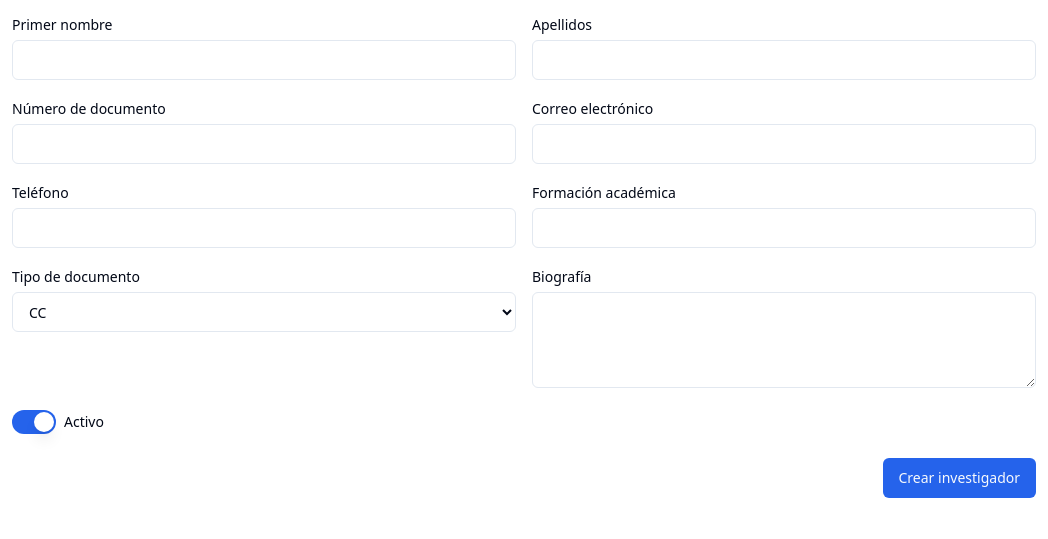
it: ResearcherForm › maps a 400 duplicate-document field error into the form
Type "Ana" into the field labelled "Primer nombre".
click(264, 60); type("Ana")  # box 12,40 -> 516,80
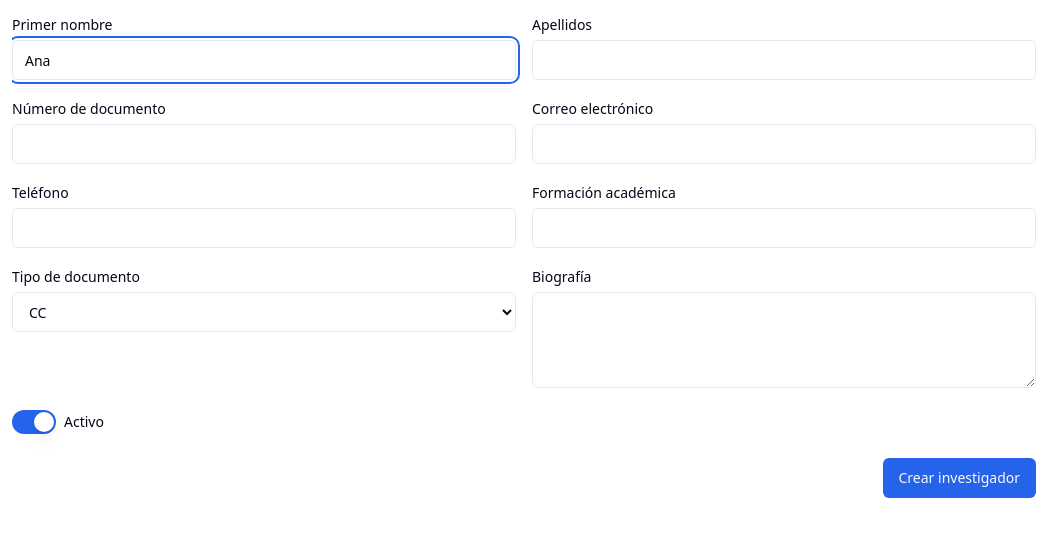
Type "Pérez" into the field labelled "Apellidos".
click(784, 60); type("Pérez")  # box 532,40 -> 1036,80
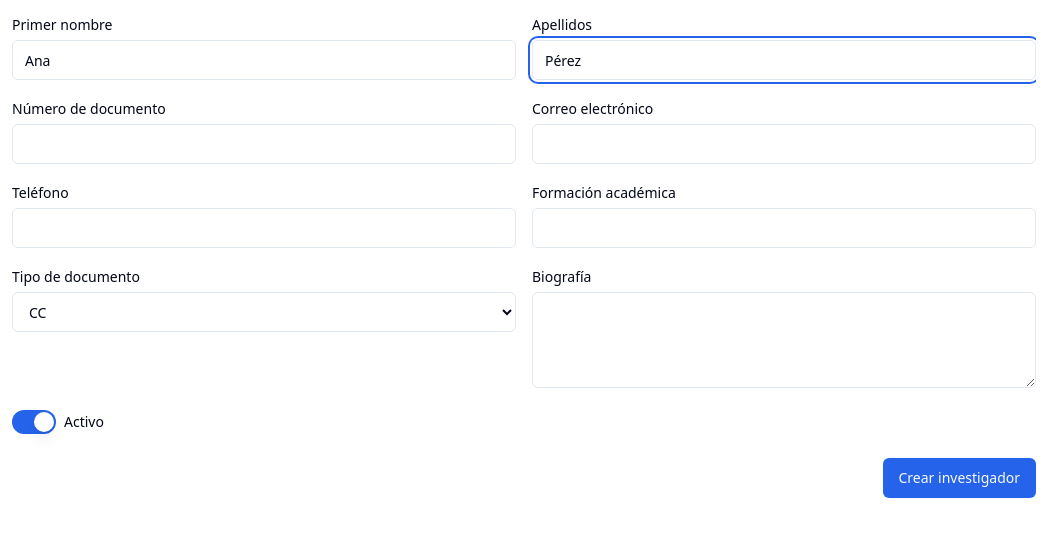
Select "CC" in the dropdown labelled "Tipo de documento" at (264,312), box 12,292 -> 516,332
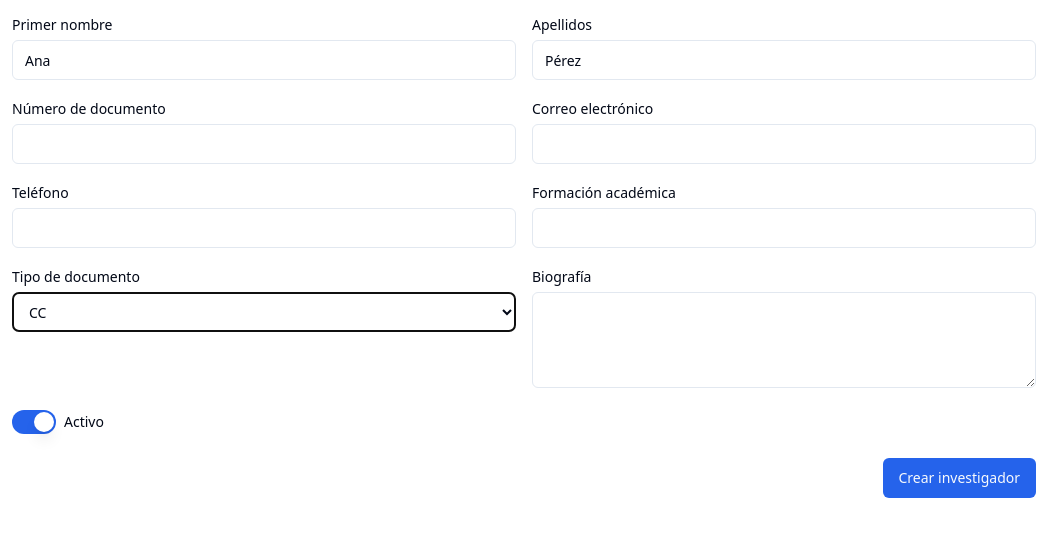
Type "1234567890" into the field labelled "Número de documento".
click(264, 144); type("1234567890")  # box 12,124 -> 516,164
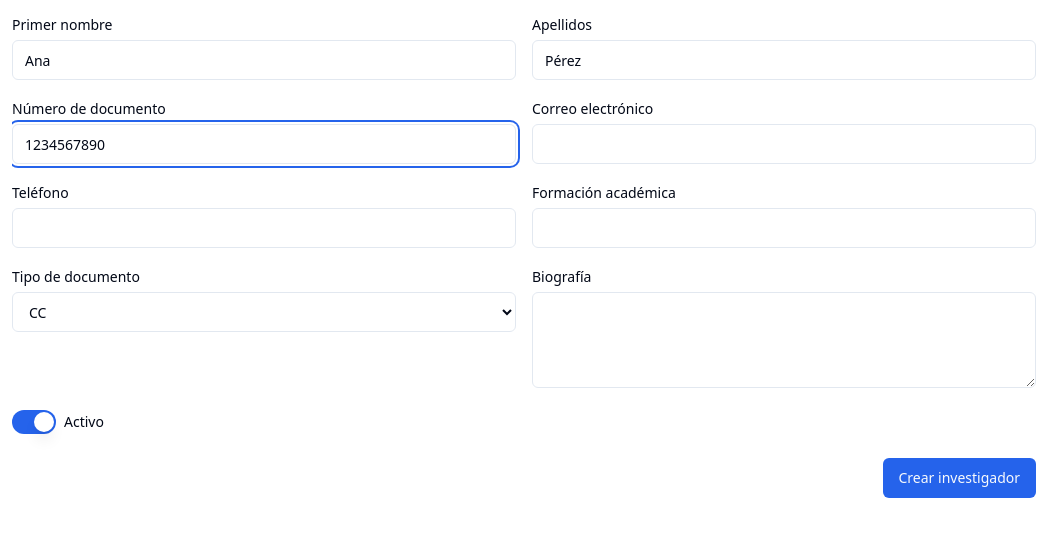
Type "ana@example.com" into the field labelled "Correo electrónico".
click(784, 144); type("ana@example.com")  # box 532,124 -> 1036,164
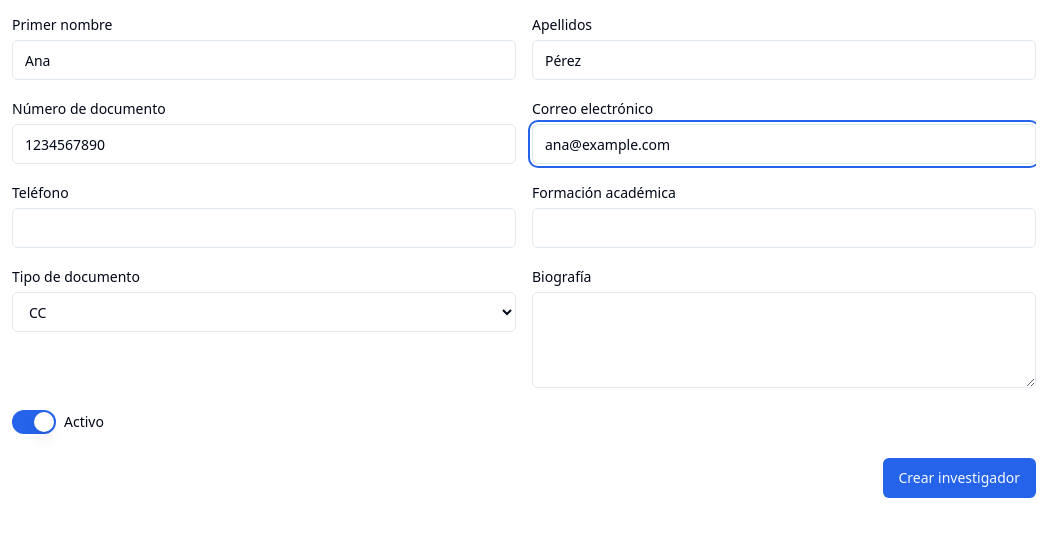
Click the button "Crear investigador".
click(959, 478)  # box 882,458 -> 1036,498
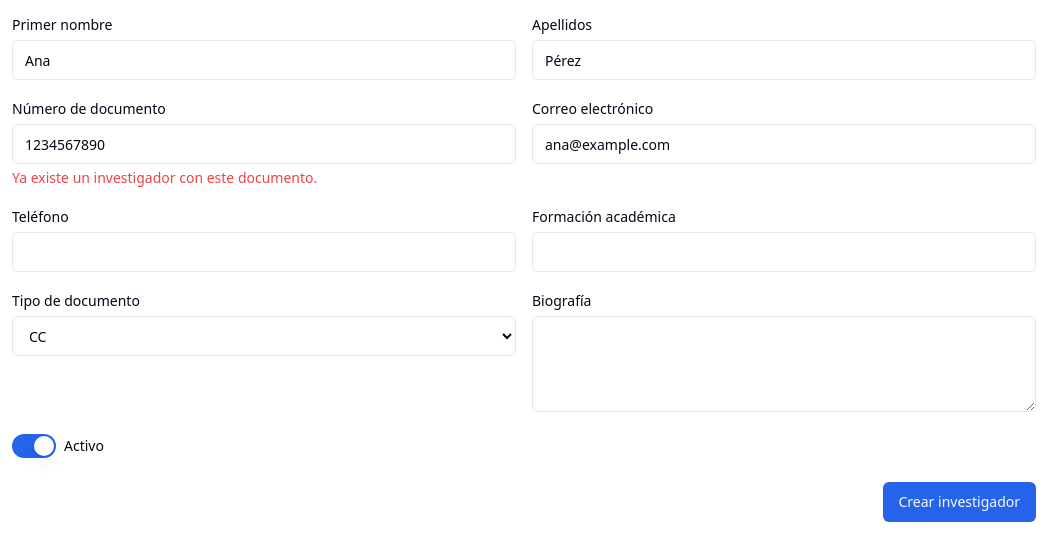
Expected: the text "Ya existe un investigador con este documento." is shown, 12,168 -> 317,187
